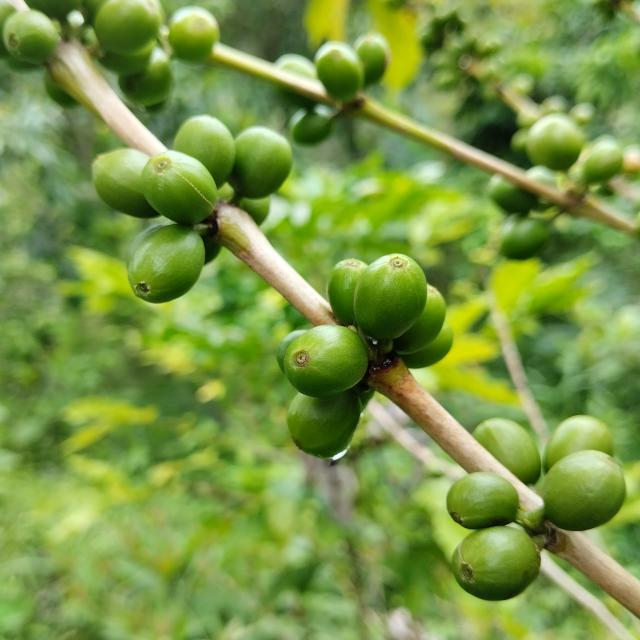green: (543, 450, 627, 532), (452, 527, 542, 602), (354, 253, 428, 341), (284, 325, 369, 398), (127, 224, 205, 303), (140, 150, 218, 224), (287, 389, 361, 460), (92, 148, 159, 218), (473, 418, 542, 485), (173, 114, 236, 187), (229, 125, 292, 198), (447, 473, 520, 530), (545, 415, 614, 472), (394, 284, 447, 354), (326, 258, 368, 325), (401, 323, 454, 369), (276, 330, 307, 373), (237, 196, 270, 225), (218, 182, 235, 202)
